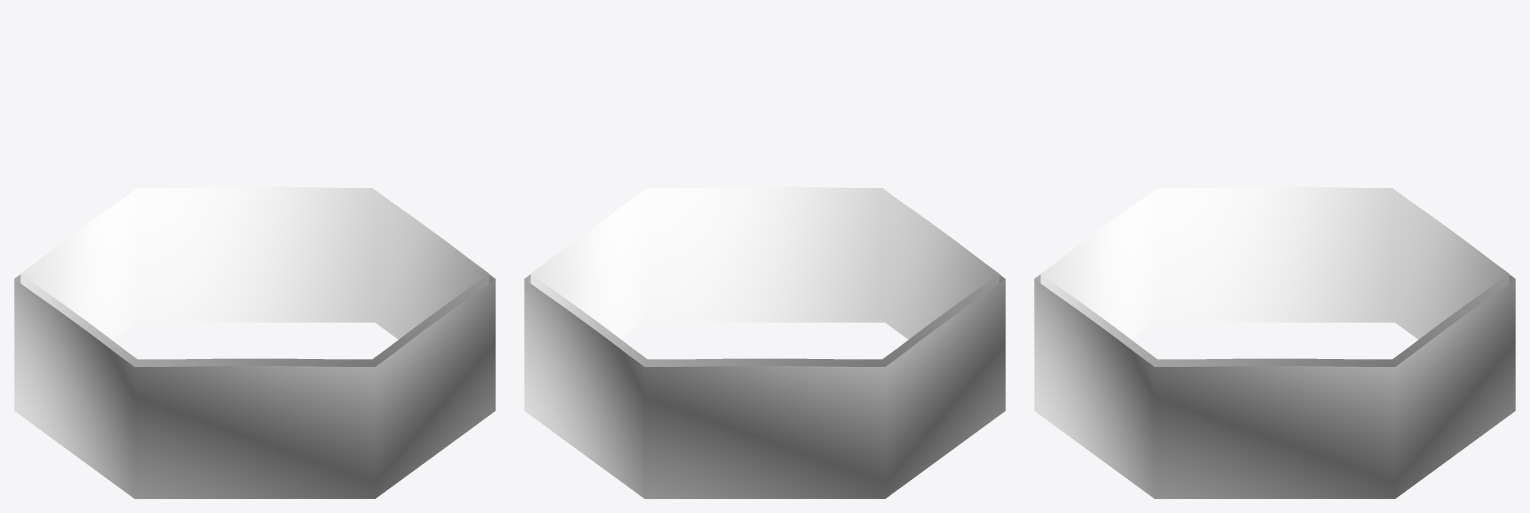
Rendered from EnemySelector.fbx.
The picture shows the model from 3 angles, left to right: view 1: azimuth 30°, elevation 25°; view 2: azimuth 150°, elevation 25°; view 3: azimuth 270°, elevation 25°; orthographic projection.
Parts seen in each view (by area): view 1: Selector; view 2: Selector; view 3: Selector.
Boxes of the visible parts, x1,y1,x2,y2 form: Selector: (14, 187, 495, 498); Selector: (524, 187, 1005, 498); Selector: (1034, 187, 1515, 498).
Size of the model in its own units: 866 by 708 by 1000.
